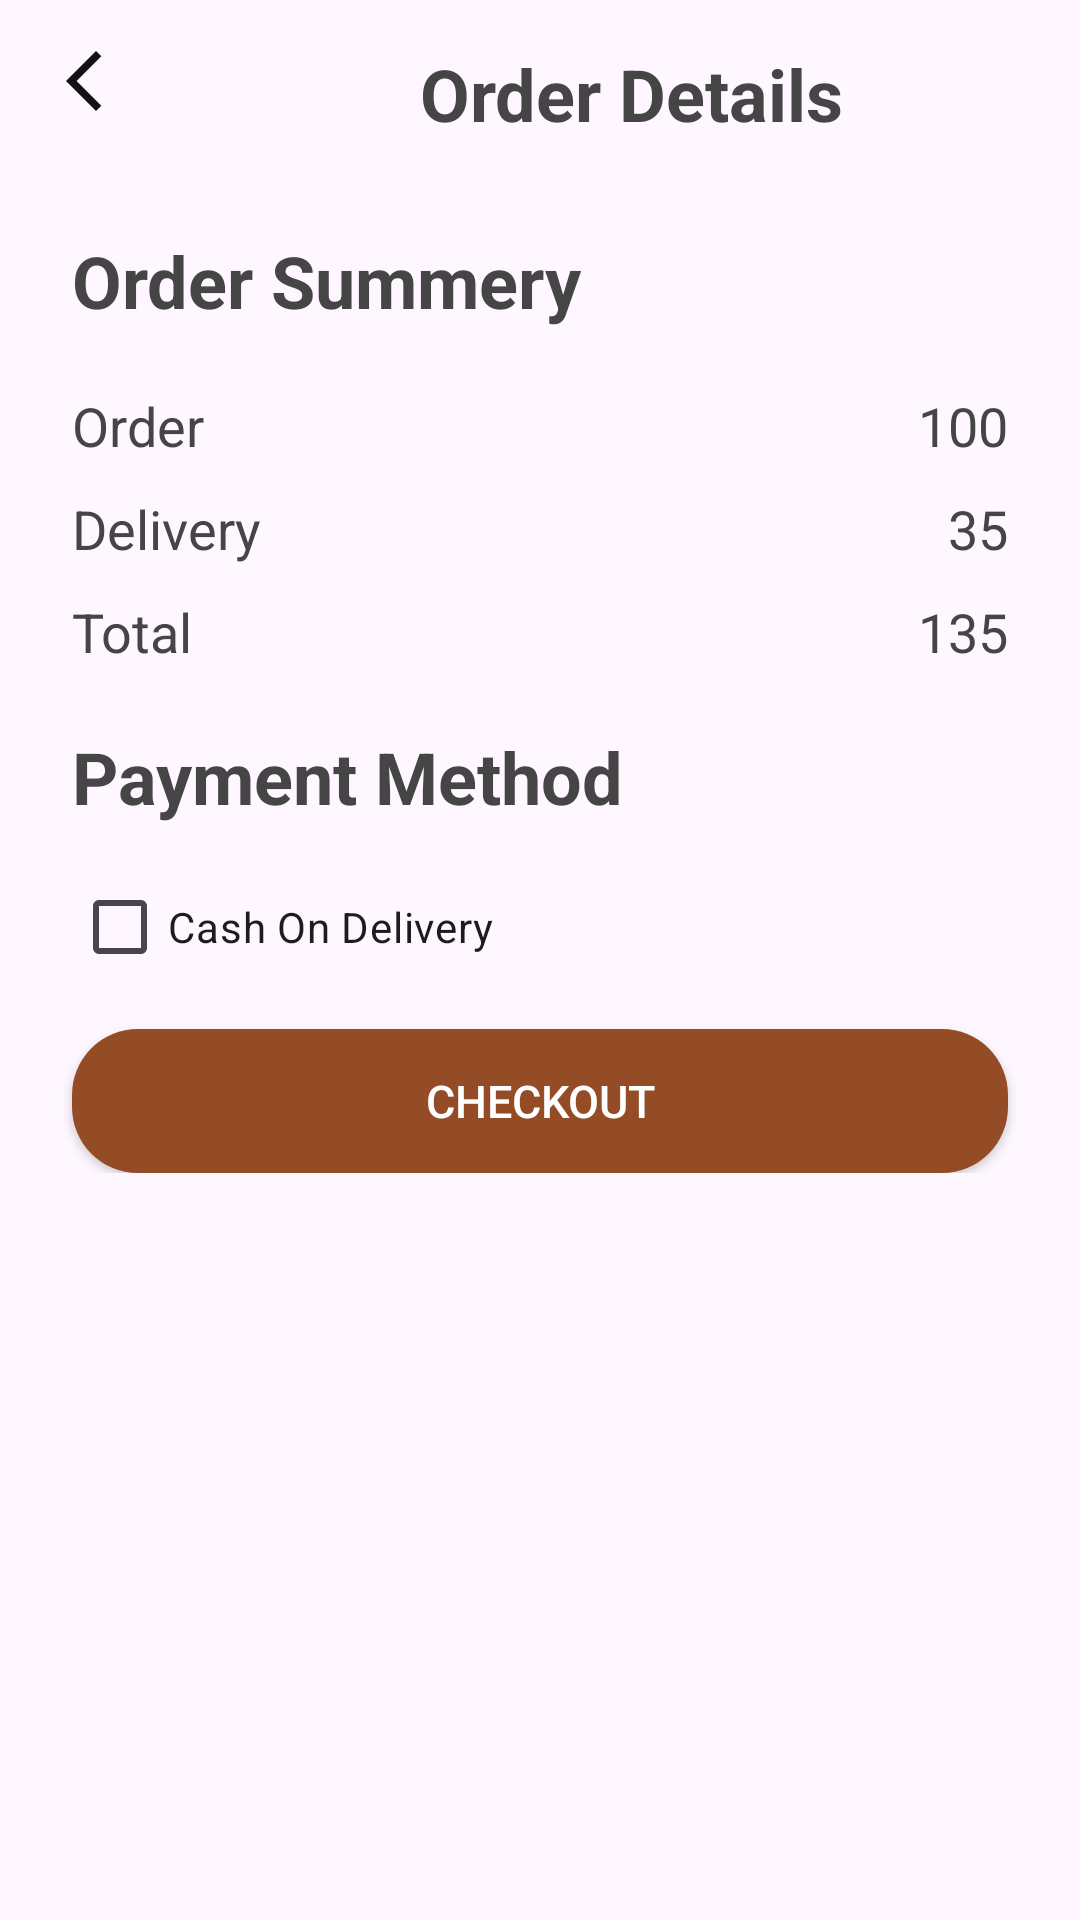

Screen size 1080px x 1920px. Icon name, then its box in pixels as [x1,y1,x2,y2]:
arrow back: [66,51,101,111]
